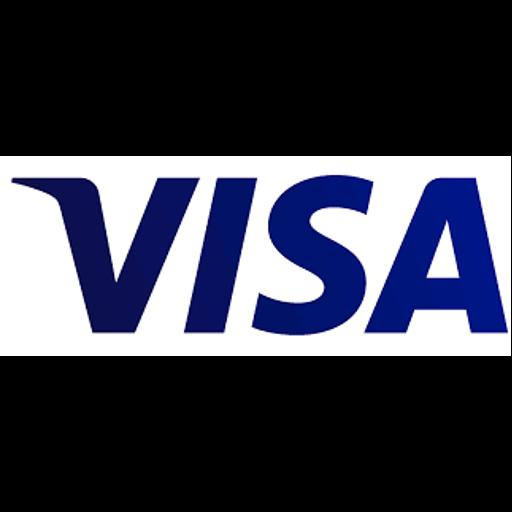Visa International Service Association: (0, 156, 511, 356)
